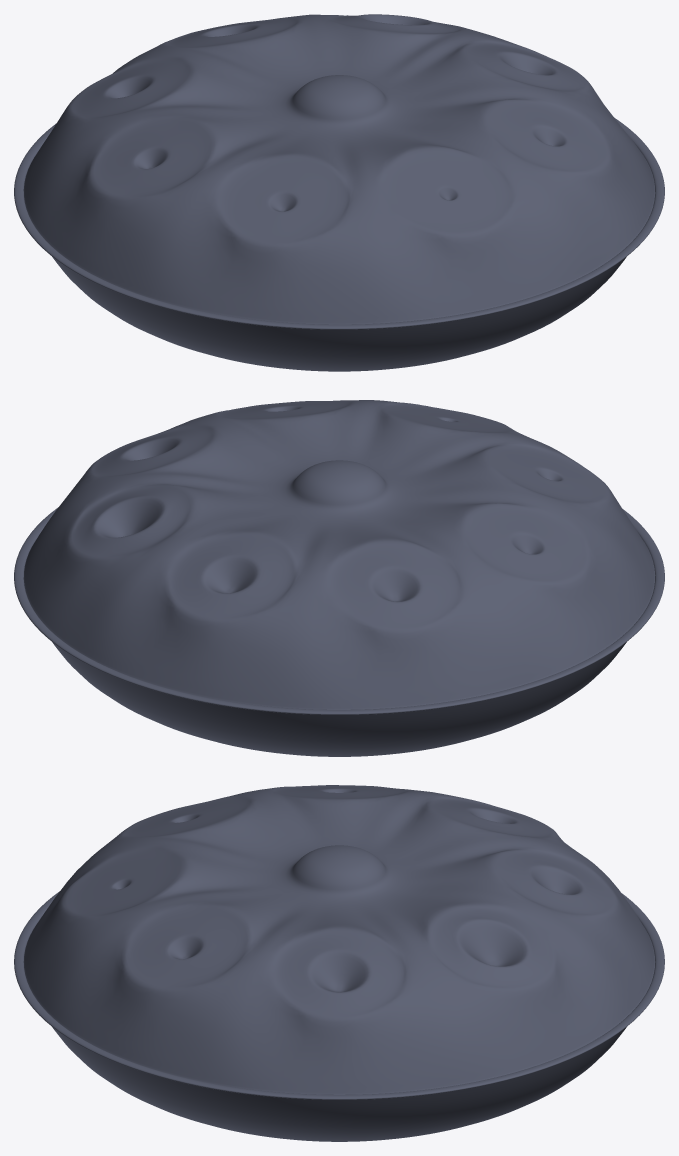
File: Handpan.glb
3 renders of one model, top to bottom at view 1: azimuth 30°, elevation 25°; view 2: azimuth 150°, elevation 25°; view 3: azimuth 270°, elevation 25°, orthographic.
Parts seen in each view (by area): view 1: Sphere; view 2: Sphere; view 3: Sphere.
Part boxes in pixels (box(x1,y1,x2,y2)): Sphere: box(14, 14, 664, 371); Sphere: box(14, 400, 664, 756); Sphere: box(14, 785, 664, 1141).
Bounding box in the file's own units: 4.6 × 1.75 × 4.6.
